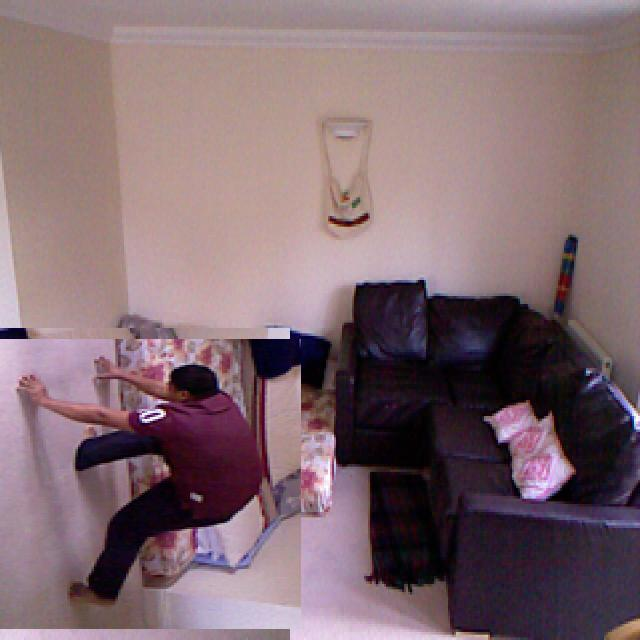Fall: (7, 349, 265, 605)
